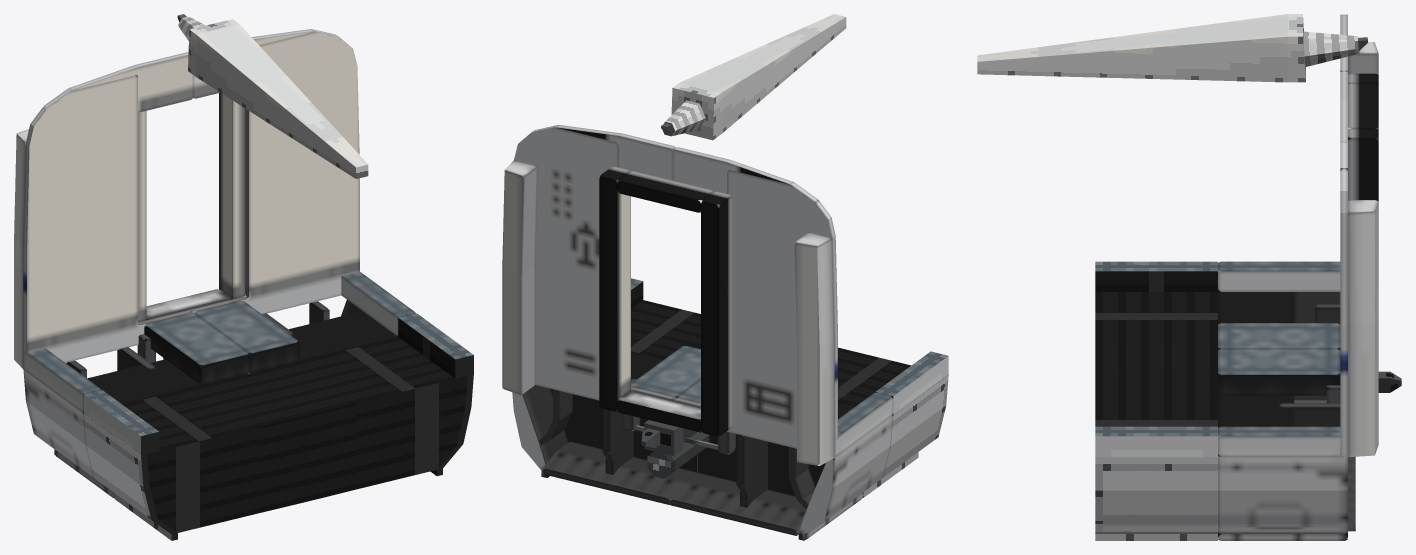
The model's file is endface_tilted.obj.
3 views of the same model, side by side, from view 1: azimuth 30°, elevation 25°; view 2: azimuth 150°, elevation 25°; view 3: azimuth 270°, elevation 25° (orthographic). The views are drawn at different scales.
Parts seen in each view (by area): view 1: 端面1, 裙板-仪器舱靠近端面R, 裙板-仪器舱靠近端面L, mesh, 裙板-仪器舱R, 地板-中间, 内风挡-侧, 裙板-仪器舱L, 端面2, 外风挡, 内风挡-下, 防雪风挡骨架 (+1 smaller); view 2: 端面1, 外风挡, 内风挡-侧, 裙板-仪器舱R, 防雪风挡, 裙板-仪器舱靠近端面R, mesh, 裙板-仪器舱L, 端面2, 裙板-仪器舱靠近端面L, 防雪风挡骨架, 地板-中间 (+6 smaller); view 3: 裙板-仪器舱靠近端面L, 裙板-仪器舱L, mesh, 裙板-仪器舱靠近端面R, 地板-中间, 外风挡, 裙板-仪器舱R, 内风挡-侧, 端面1, cylinder, 内风挡-上, 防雪风挡骨架 (+2 smaller).
Boxes of the visible parts, box(x1,y1,x2,y2) form: 端面1: box(23, 29, 359, 370); 裙板-仪器舱靠近端面R: box(84, 373, 307, 540); 裙板-仪器舱靠近端面L: box(251, 313, 473, 501); mesh: box(177, 14, 368, 178); 裙板-仪器舱R: box(23, 348, 249, 498); 地板-中间: box(144, 301, 299, 384); 内风挡-侧: box(138, 92, 245, 322); 裙板-仪器舱L: box(248, 271, 415, 373); 端面2: box(69, 29, 313, 112); 外风挡: box(14, 129, 28, 368); 内风挡-下: box(146, 289, 231, 319); 防雪风挡骨架: box(117, 313, 294, 370); 端面1: box(514, 125, 837, 457); 外风挡: box(502, 160, 834, 465); 内风挡-侧: box(599, 166, 732, 436); 裙板-仪器舱R: box(697, 392, 893, 540); 防雪风挡: box(542, 441, 806, 535); 裙板-仪器舱靠近端面R: box(838, 347, 948, 497); mesh: box(661, 14, 846, 140); 裙板-仪器舱L: box(512, 351, 697, 477); 端面2: box(556, 125, 792, 204); 裙板-仪器舱靠近端面L: box(631, 278, 700, 358); 防雪风挡骨架: box(602, 378, 767, 507); 地板-中间: box(631, 346, 700, 403); 裙板-仪器舱靠近端面L: box(1095, 370, 1217, 540); 裙板-仪器舱L: box(1218, 394, 1347, 540); mesh: box(977, 14, 1367, 82); 裙板-仪器舱靠近端面R: box(1095, 261, 1217, 369); 地板-中间: box(1218, 323, 1340, 395); 外风挡: box(1348, 41, 1378, 457); 裙板-仪器舱R: box(1218, 261, 1340, 324); 内风挡-侧: box(1348, 73, 1378, 201); 端面1: box(1340, 14, 1347, 457); cylinder: box(1294, 31, 1359, 403); 内风挡-上: box(1348, 83, 1378, 139); 防雪风挡骨架: box(1279, 403, 1340, 426).
Bounding box in the file's own units: 3.38 × 4 × 3.46.
